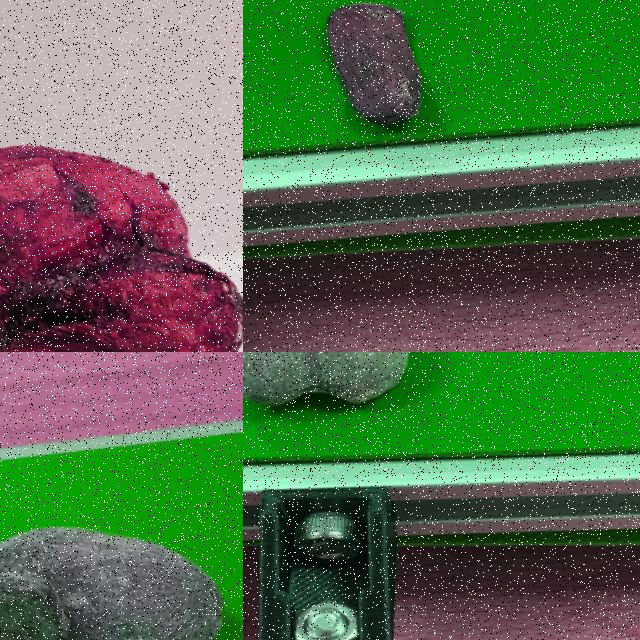Agglomerated_cocoabeans: (0, 53, 242, 351), (0, 421, 242, 639), (243, 352, 523, 481)
Flat_cocoabeans: (243, 0, 500, 165)
